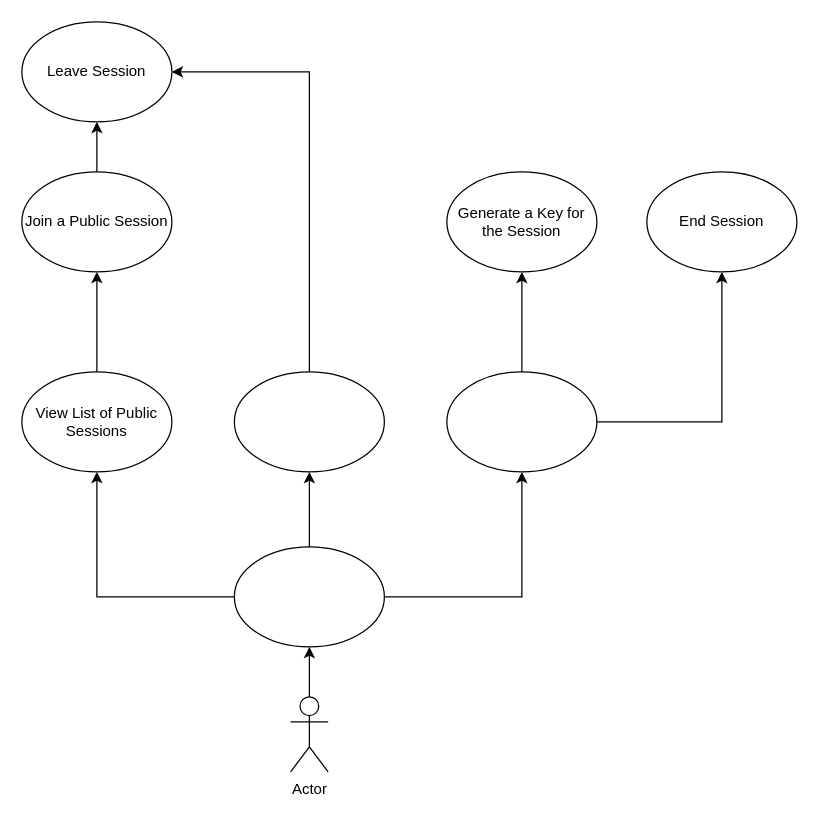
Some shapes in this 819 by 820 pixel diagram are drawn without their labels. Here are the shapes that lost their labels. From the top down, the box of each, then its label:
(233, 371, 384, 472): Join Session With Key
(446, 371, 597, 472): Create a Session
(233, 546, 384, 647): Login
